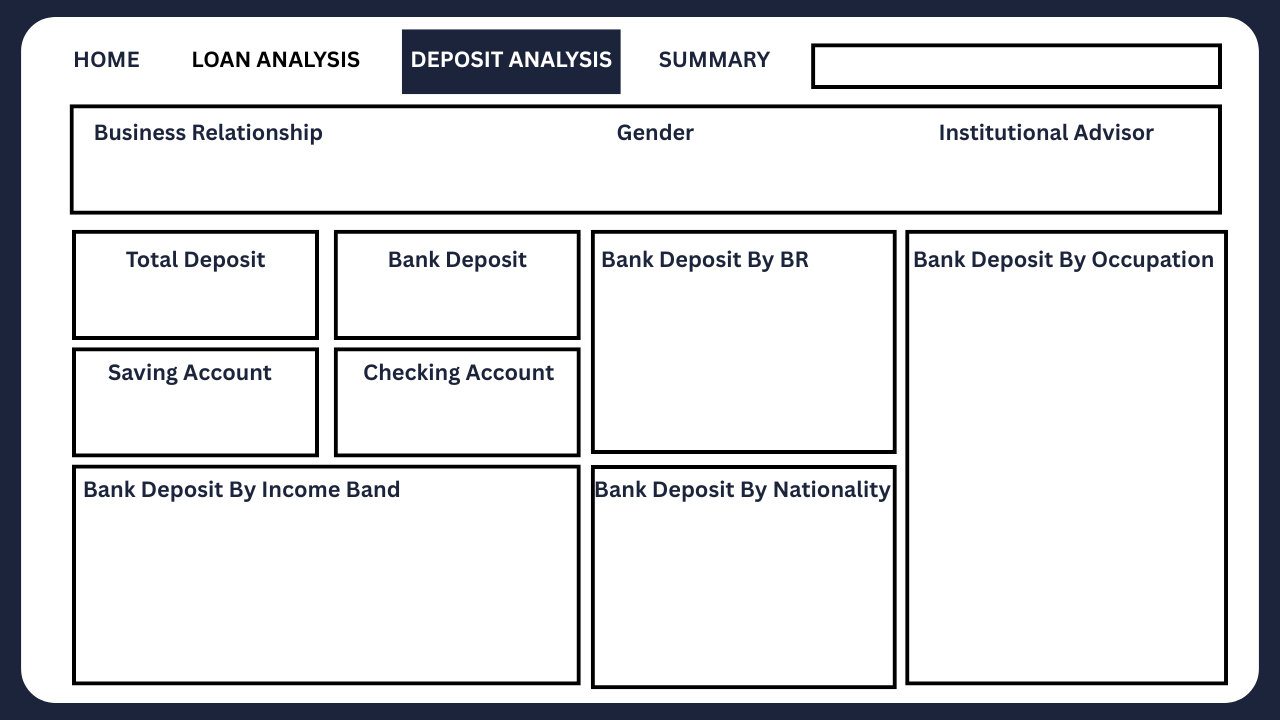

Layout of this report page (visuals, bound fields, positions):
{"tool":"powerbi","page":{"name":"Deposit Analysis","canvas":[1280,720],"ordinal":2},"visuals":[{"type":"slicer","fields":{"Values":["banking_case customer.Year of Joining"]},"box":[811,45,408,39],"z":0},{"type":"actionButton","box":[48,32,112,48],"z":1000},{"type":"actionButton","box":[400,32,208,48],"z":2000},{"type":"actionButton","box":[656,32,112,48],"z":3000},{"type":"card","fields":{"Values":["banking_case customer.Total Deposit"]},"box":[128,280,165,48],"z":4000},{"type":"card","fields":{"Values":["Sum(banking_case customer.Bank Deposits)"]},"box":[384,288,165,48],"z":5000},{"type":"card","fields":{"Values":["Sum(banking_case customer.Saving Accounts)"]},"box":[112,400,160,48],"z":6000},{"type":"card","fields":{"Values":["Sum(banking_case customer.Checking Accounts)"]},"box":[384,400,165,48],"z":7000},{"type":"donutChart","fields":{"Y":["Sum(banking_case customer.Bank Deposits)","Sum(banking_case customer.Bank Loans)"],"Category":["banking_case customer.Income Band"]},"box":[80,512,480,160],"z":8000},{"type":"clusteredColumnChart","fields":{"Category":["banking_case customer.BRId"],"Y":["Sum(banking_case customer.Bank Deposits)"]},"box":[608,272,240,160],"z":9000},{"type":"clusteredColumnChart","fields":{"Category":["banking_case customer.Nationality"],"Y":["Sum(banking_case customer.Bank Deposits)"]},"box":[608,512,240,160],"z":10000},{"type":"clusteredColumnChart","fields":{"Category":["banking_case customer.Occupation"],"Y":["Sum(banking_case customer.Bank Deposits)"]},"box":[912,288,288,384],"z":11000},{"type":"slicer","fields":{"Values":["banking_case customer.BRId"]},"box":[80,144,440,64],"z":12000},{"type":"slicer","fields":{"Values":["banking_case customer.GenderId"]},"box":[512,144,288,64],"z":13000},{"type":"slicer","fields":{"Values":["banking_case customer.Institutional Advisor"]},"box":[816,152,400,52],"z":14000},{"type":"actionButton","box":[176,32,192,48],"z":14001}]}

Visuals, with their boxes in screenshot pixels (x1, y1, x2, y2), scaled from the page's 1280x720 canvas onto the 1280x720 screenshot:
slicer - banking_case customer.Year of Joining: crop(811, 45, 1219, 84)
actionButton: crop(48, 32, 160, 80)
actionButton: crop(400, 32, 608, 80)
actionButton: crop(656, 32, 768, 80)
card - banking_case customer.Total Deposit: crop(128, 280, 293, 328)
card - Sum(banking_case customer.Bank Deposits): crop(384, 288, 549, 336)
card - Sum(banking_case customer.Saving Accounts): crop(112, 400, 272, 448)
card - Sum(banking_case customer.Checking Accounts): crop(384, 400, 549, 448)
donutChart - Sum(banking_case customer.Bank Deposits) x Sum(banking_case customer.Bank Loans): crop(80, 512, 560, 672)
clusteredColumnChart - banking_case customer.BRId x Sum(banking_case customer.Bank Deposits): crop(608, 272, 848, 432)
clusteredColumnChart - banking_case customer.Nationality x Sum(banking_case customer.Bank Deposits): crop(608, 512, 848, 672)
clusteredColumnChart - banking_case customer.Occupation x Sum(banking_case customer.Bank Deposits): crop(912, 288, 1200, 672)
slicer - banking_case customer.BRId: crop(80, 144, 520, 208)
slicer - banking_case customer.GenderId: crop(512, 144, 800, 208)
slicer - banking_case customer.Institutional Advisor: crop(816, 152, 1216, 204)
actionButton: crop(176, 32, 368, 80)
